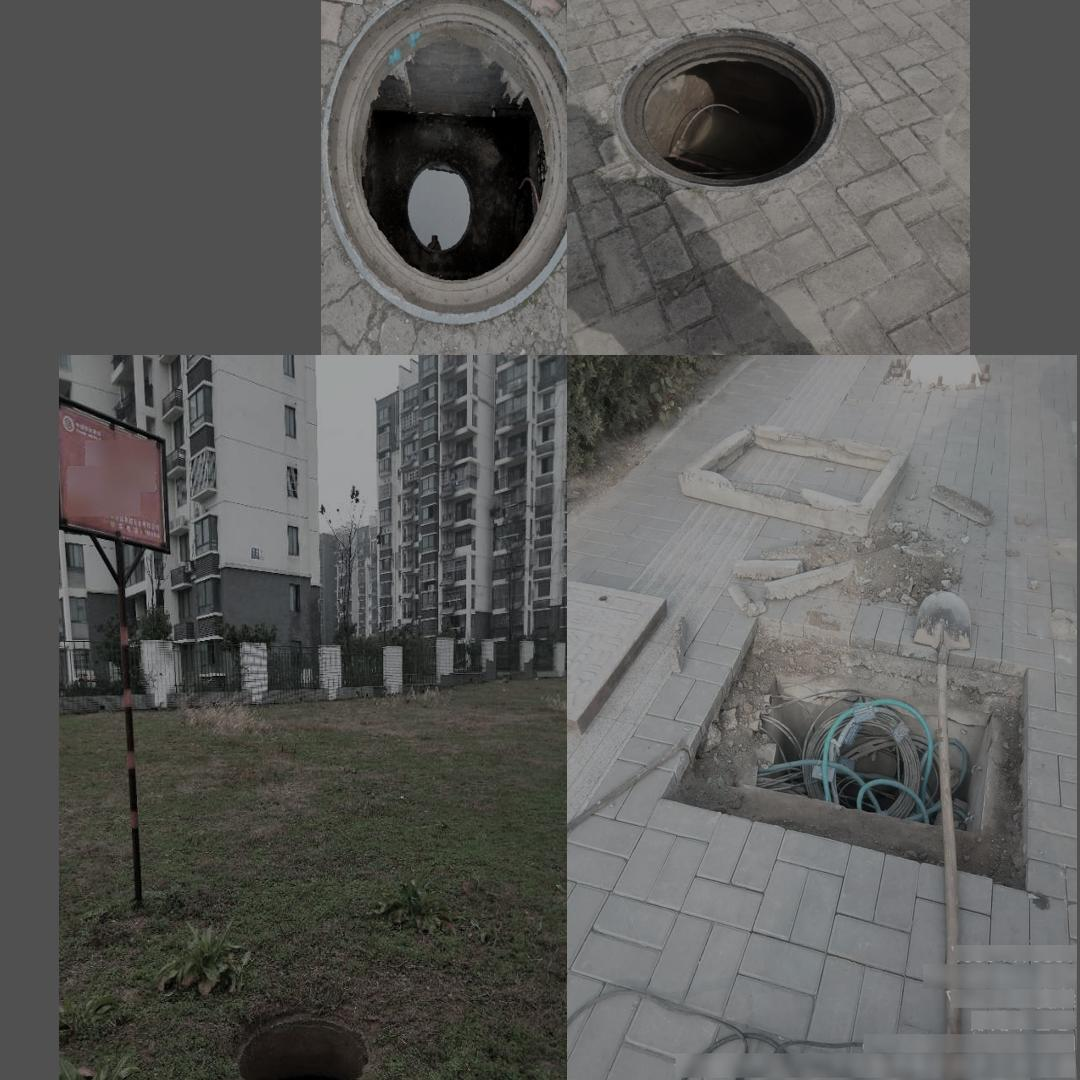lose: (322, 0, 565, 324), (720, 654, 1014, 838), (605, 29, 843, 191), (235, 1012, 371, 1080)
